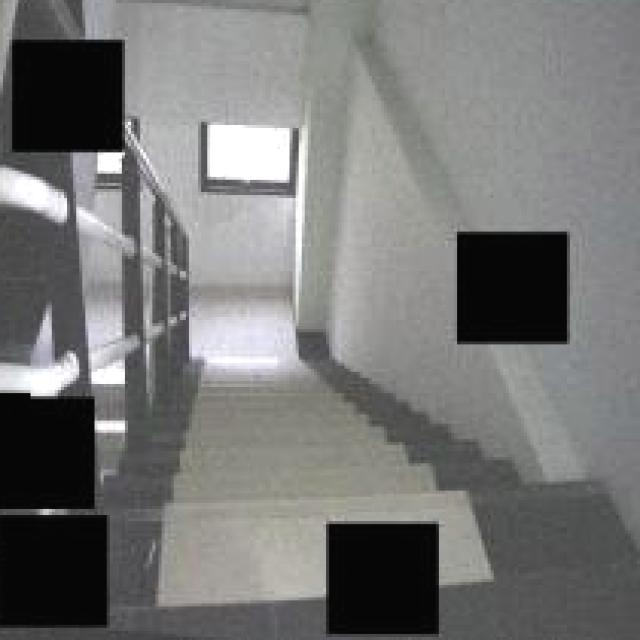downstair: (175, 376, 367, 501)
